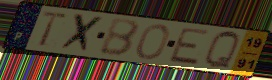B: (97, 19, 141, 59)
E: (167, 26, 213, 66)
O: (134, 23, 171, 61)
Q: (202, 30, 241, 71)
T: (38, 10, 71, 48)
X: (57, 12, 106, 55)
